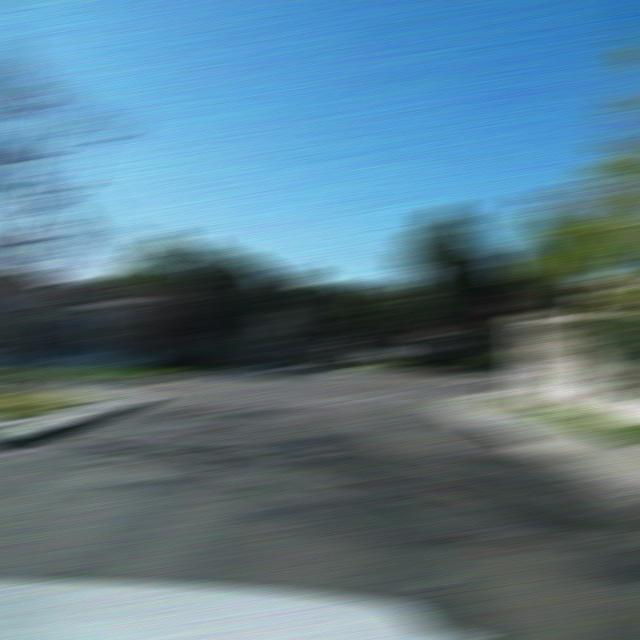stop: (482, 290, 522, 320)
